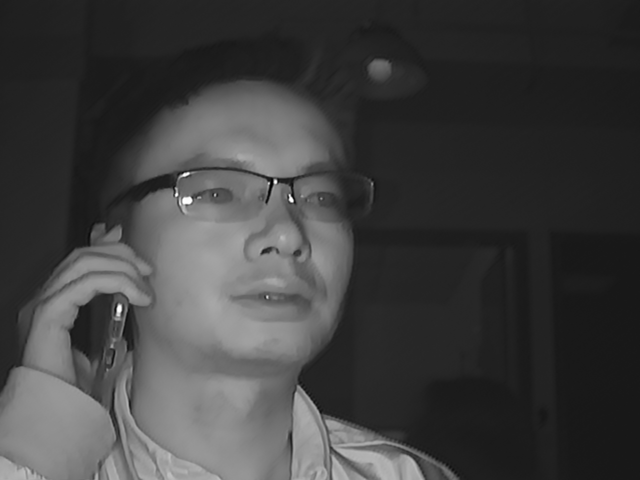hand: (35, 240, 156, 393)
